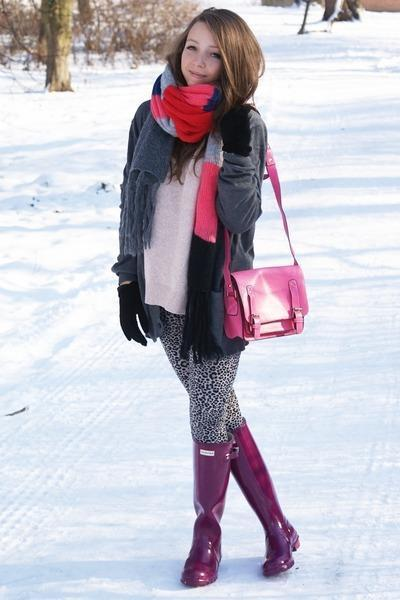bag: (211, 156, 307, 340)
jacket: (111, 101, 269, 368)
pants: (147, 305, 245, 467)
shirt: (144, 180, 197, 315)
shoe: (181, 420, 299, 587)
